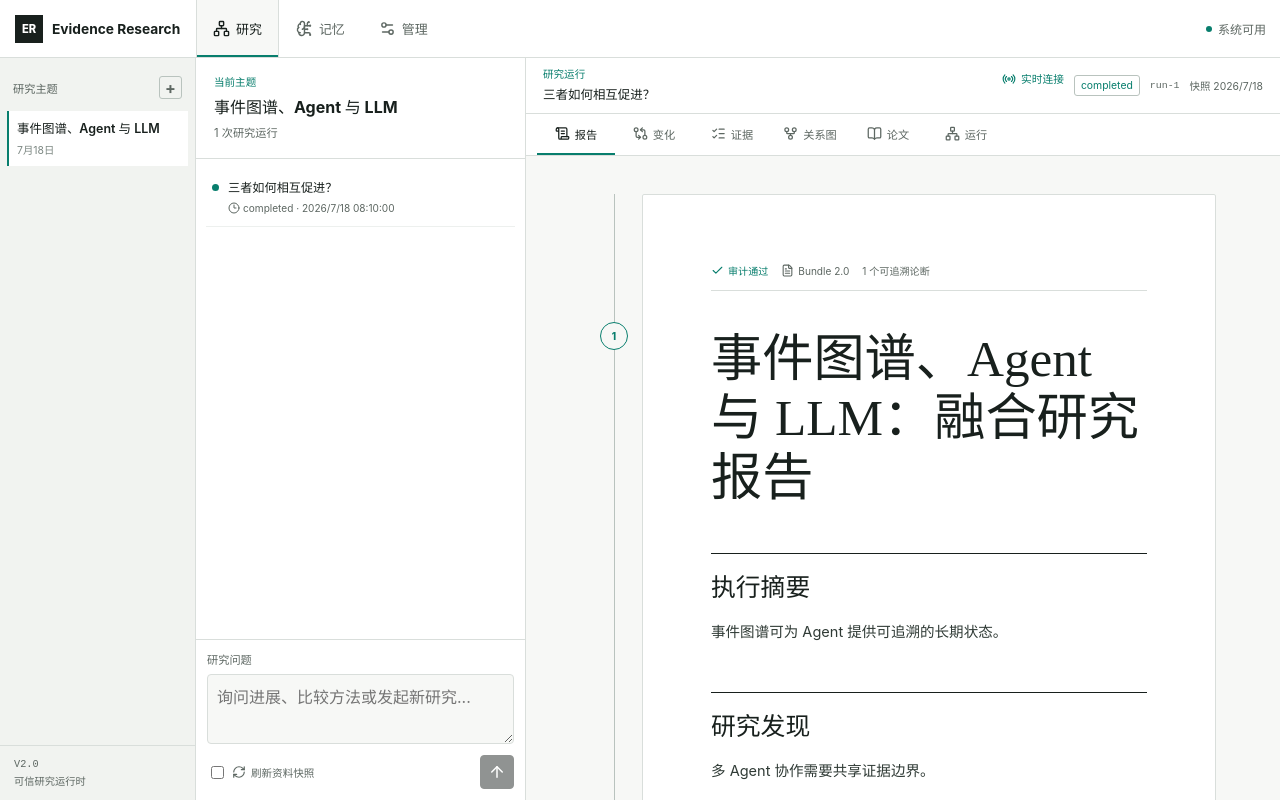
Test: research workspace › connects a report claim to its evidence drawer
Click the button named "查看论断 claim-1 的证据". click: [614, 336]
box: [600, 322, 628, 350]
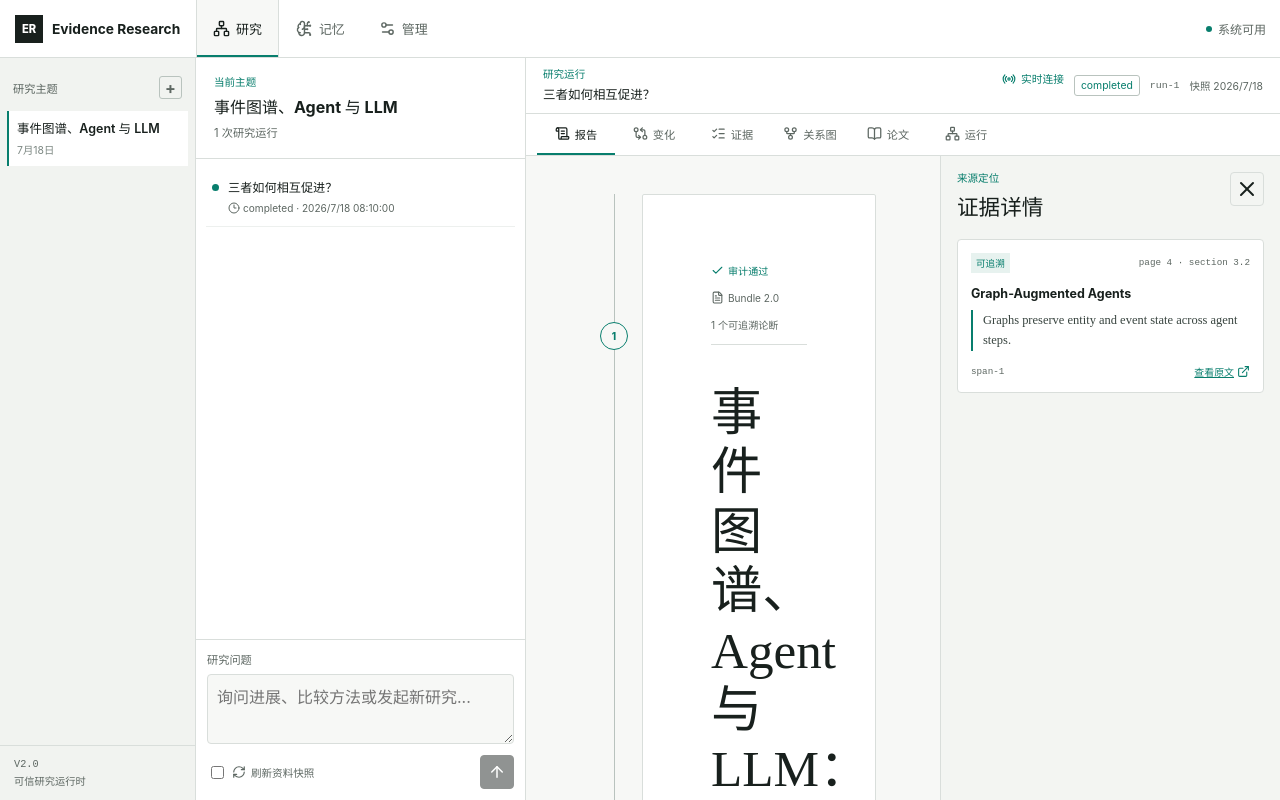
Expected: the heading "Graph-Augmented Agents" is shown, [971, 286, 1131, 301]
Expected: the text "page 4 · section 3.2" is shown, [1139, 257, 1250, 268]
